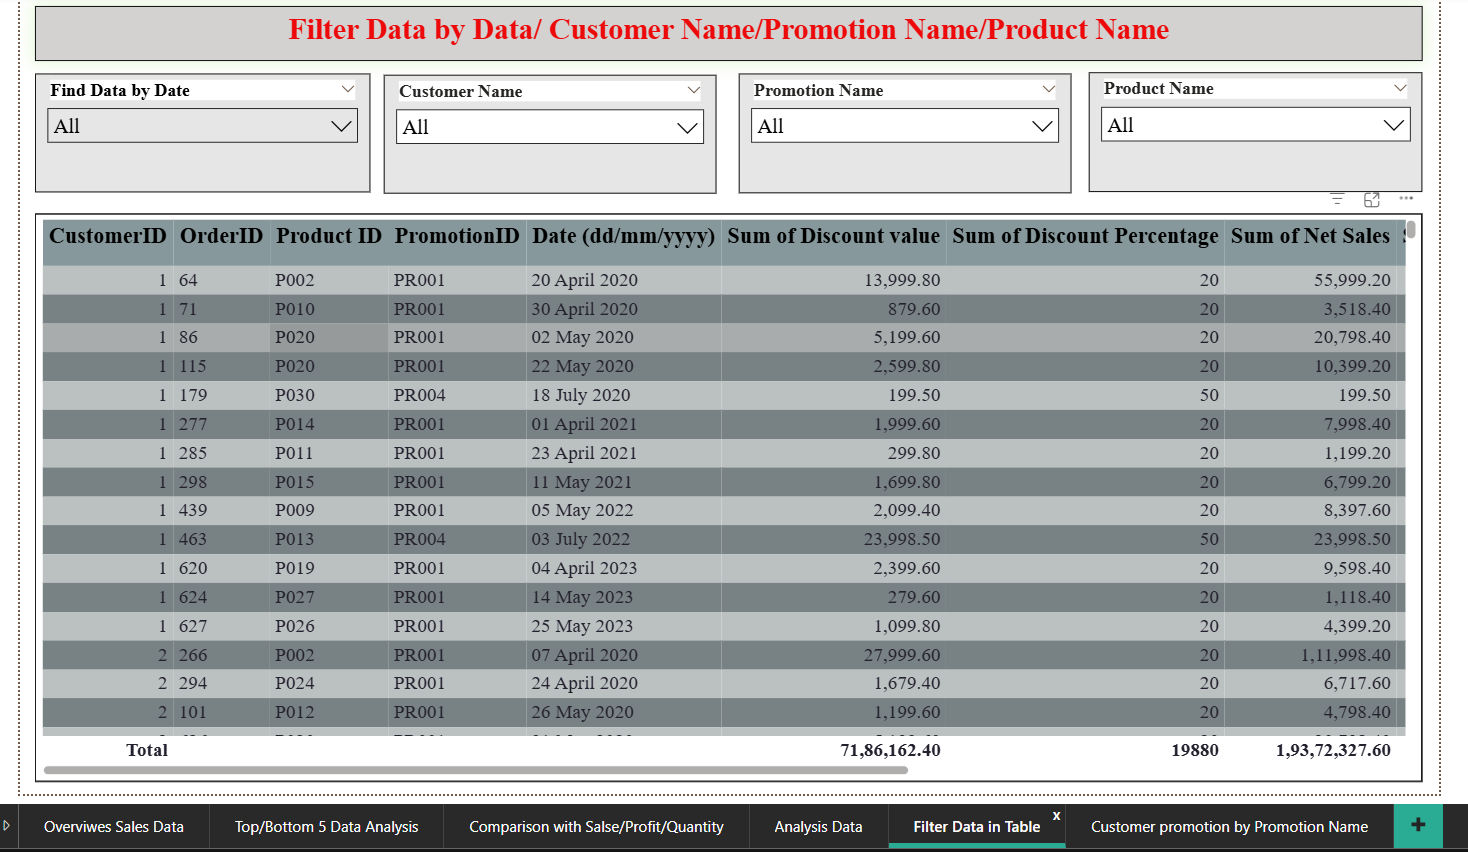

Layout of this report page (visuals, bound fields, positions):
{"tool":"powerbi","page":{"name":"Filter Data in Table","canvas":[1280,720],"ordinal":4},"visuals":[{"type":"tableEx","fields":{"Values":["Fact Table.CustomerID","Fact Table.OrderID","Fact Table.Product ID","Fact Table.PromotionID","Fact Table.Date (dd/mm/yyyy)","Sum(Fact Table.Discount value)","Sum(Fact Table.Discount Percentage)","Sum(Fact Table.Net Sales)","Sum(Fact Table.Price Per Unit (INR))","Sum(Fact Table.Profit)","Sum(Fact Table.Total Sales)","Sum(Fact Table.Units Sold)"]},"box":[14.3,154.3,1251.4,554.3],"z":0},{"type":"slicer","fields":{"Values":["Date Table 1.Date"]},"box":[12.9,15.7,301.4,107.1],"z":1000},{"type":"slicer","fields":{"Values":["Dim Customers.Customer Name"]},"box":[328.6,15.7,300,107.1],"z":2000},{"type":"slicer","fields":{"Values":["Dim Product.Product Name"]},"box":[964.7,15.1,300.5,108.4],"z":3000},{"type":"slicer","fields":{"Values":["Dim Promotion.Promotion Name"]},"box":[650.4,13.7,300.5,108.4],"z":4000}]}

Visuals, with their boxes on the page's 1280x720 design canvas (x1, y1, x2, y2). These are canvas units, not pixel positions in the 1468x852 screenshot, which may show the page scaled, cropped or inside an application window:
tableEx - Fact Table.CustomerID x Fact Table.OrderID: l=14, t=154, r=1266, b=709
slicer - Date Table 1.Date: l=13, t=16, r=314, b=123
slicer - Dim Customers.Customer Name: l=329, t=16, r=629, b=123
slicer - Dim Product.Product Name: l=965, t=15, r=1265, b=124
slicer - Dim Promotion.Promotion Name: l=650, t=14, r=951, b=122
